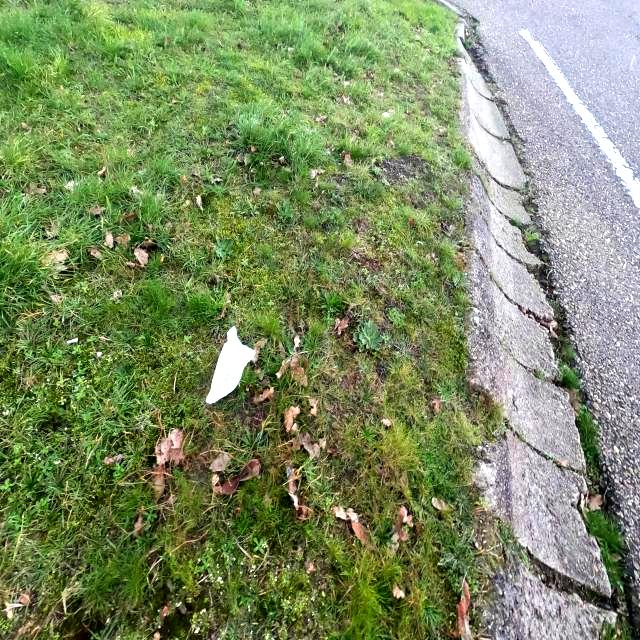Paper: (205, 325, 257, 405)
